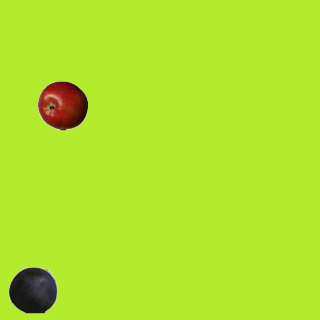Apple Braeburn: (37, 80, 87, 130)
Grape Blue: (7, 264, 57, 314)
